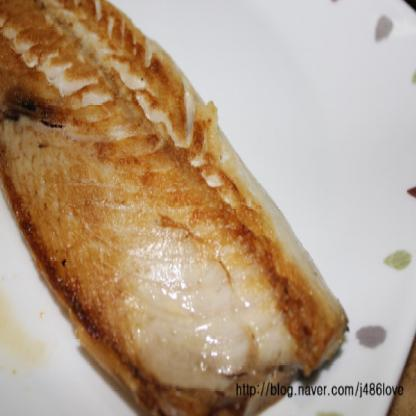Peixe: (0, 0, 358, 416)
